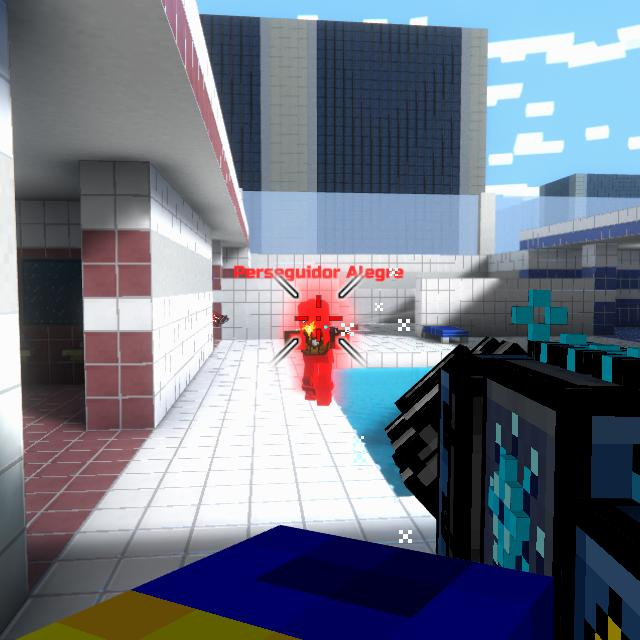Enemy: (285, 300, 351, 408)
